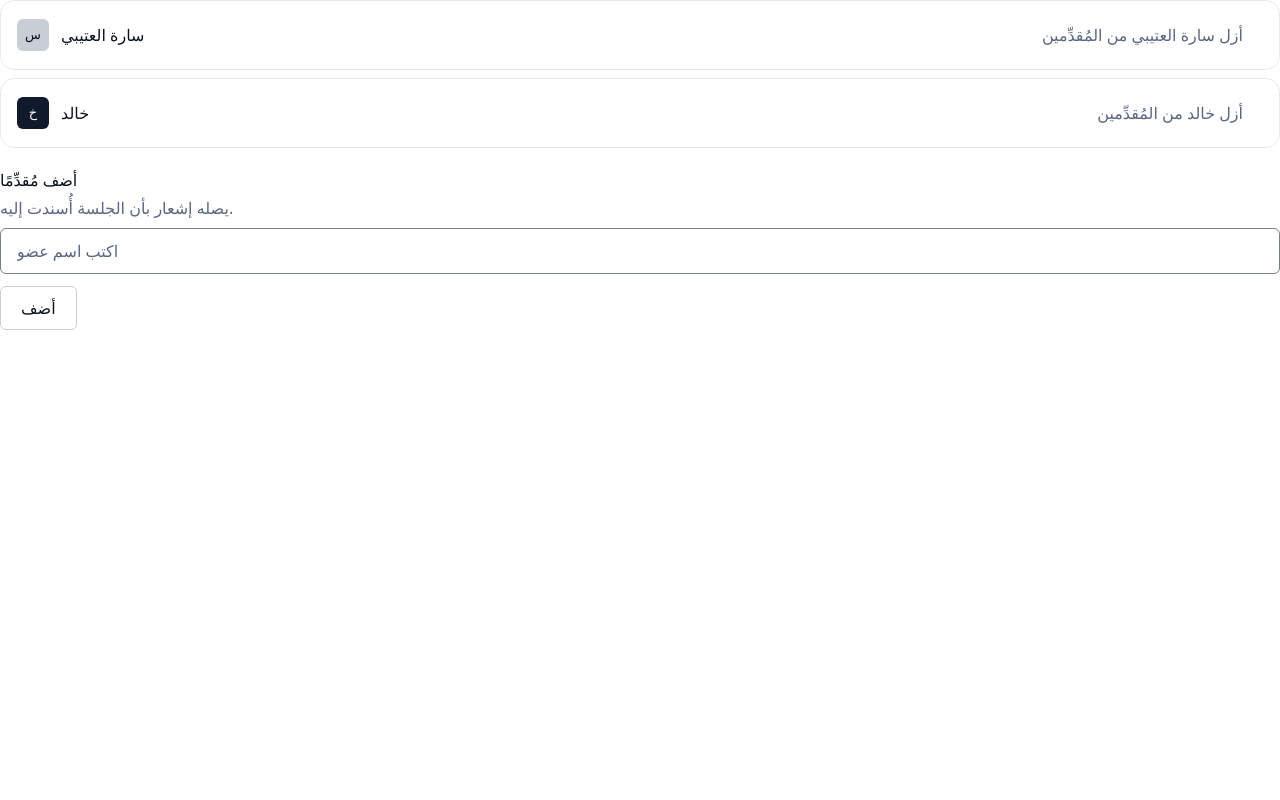
Test: the confirm speaks of the session, and of points only after completion › before completion: no word about points
Click the button "أزل خالد من المُقدِّمين": (1170, 113) top-left (1077, 91), bottom-right (1263, 135)
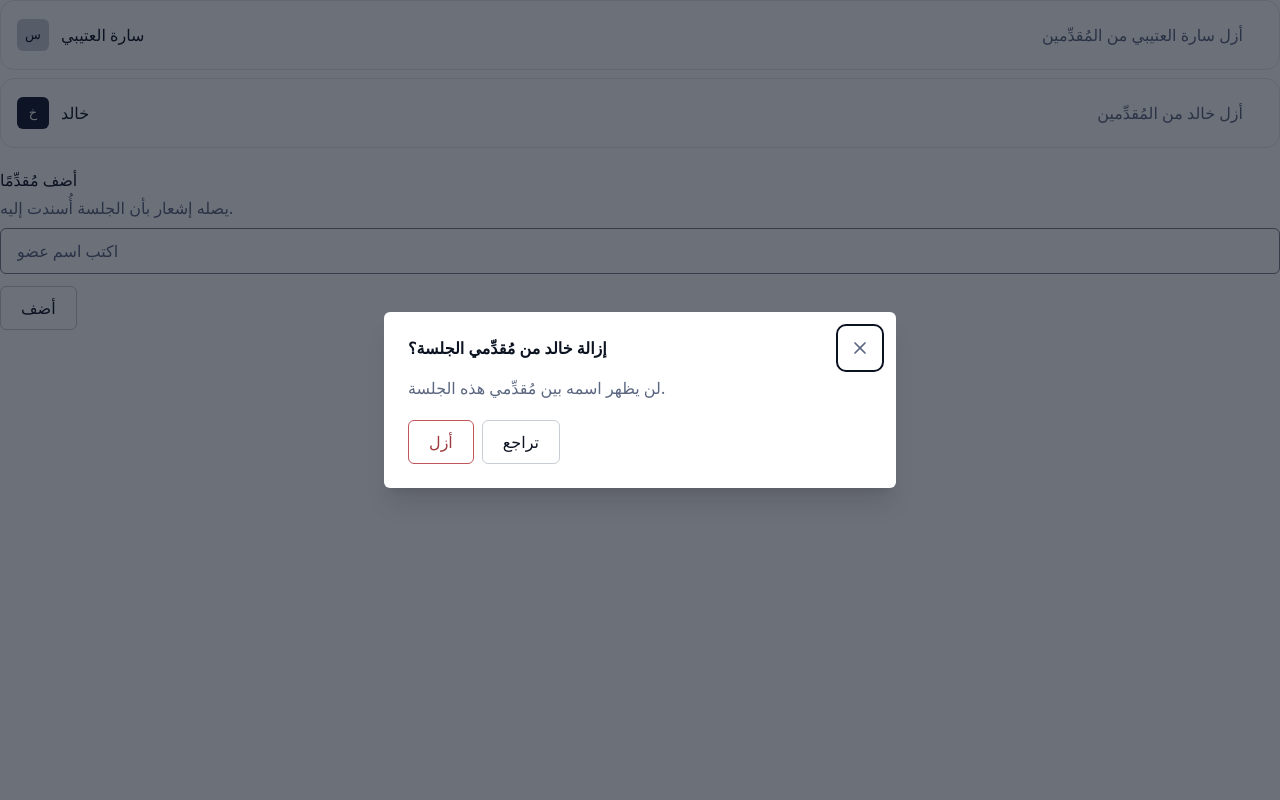
Expected: the dialog "إزالة خالد من مُقدِّمي الجلسة؟" does not show "نقاط", top-left (384, 312), bottom-right (896, 488)
Expected: the dialog "إزالة خالد من مُقدِّمي الجلسة؟" shows "لن يظهر اسمه بين مُقدِّمي هذه الجلسة.", top-left (408, 377), bottom-right (665, 399)
